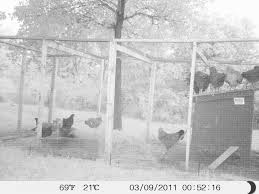chicken: (151, 122, 189, 160), (221, 58, 248, 95), (27, 114, 62, 141), (53, 109, 80, 142), (187, 67, 212, 100), (237, 61, 259, 95), (205, 61, 227, 95), (82, 111, 115, 133)
